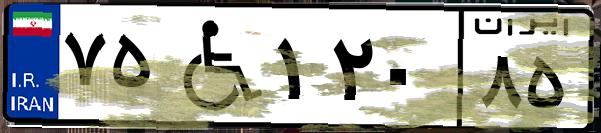0: (385, 28, 445, 110)
1: (270, 28, 330, 110)
2: (330, 28, 385, 110)
5: (525, 38, 570, 115), (110, 28, 158, 98)
7: (57, 26, 110, 100)
8: (475, 38, 525, 113)
ژ (معلولین و جانبازان): (158, 12, 270, 120)
